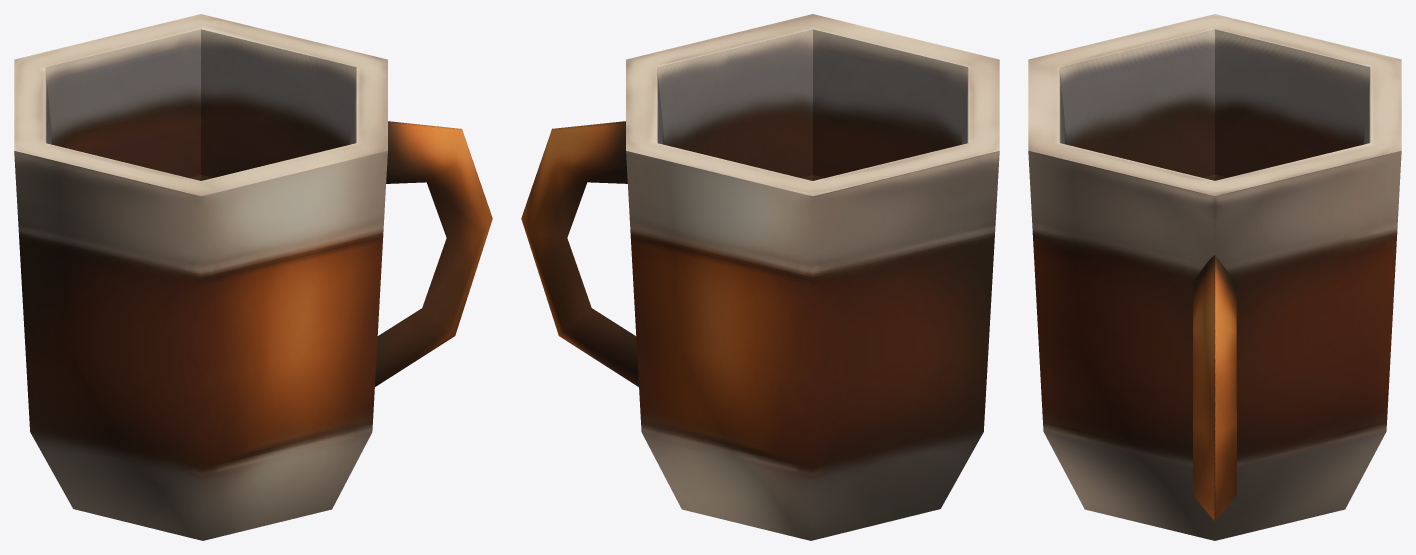
The model's file is cup_02.DAE.
The picture shows the model from 3 angles, left to right: view 1: azimuth 30°, elevation 25°; view 2: azimuth 150°, elevation 25°; view 3: azimuth 270°, elevation 25°; orthographic projection.
Visible parts, largest first — view 1: cup_02; view 2: cup_02; view 3: cup_02.
Boxes of the visible parts, x1=… form: cup_02: x1=14, y1=14, x2=492, y2=540; cup_02: x1=521, y1=14, x2=999, y2=540; cup_02: x1=1028, y1=14, x2=1401, y2=540.
Bounding box in the file's own units: 19.17 × 14.27 × 12.97.
1 material, 1 textured.
